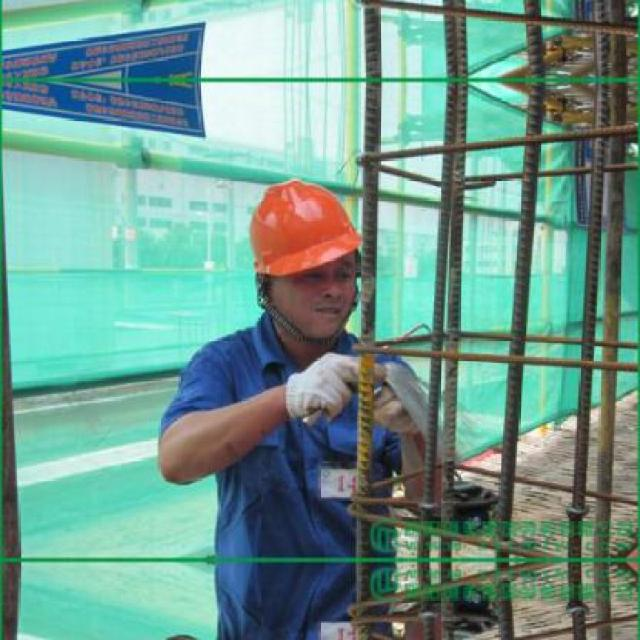helmet: (234, 164, 369, 356)
